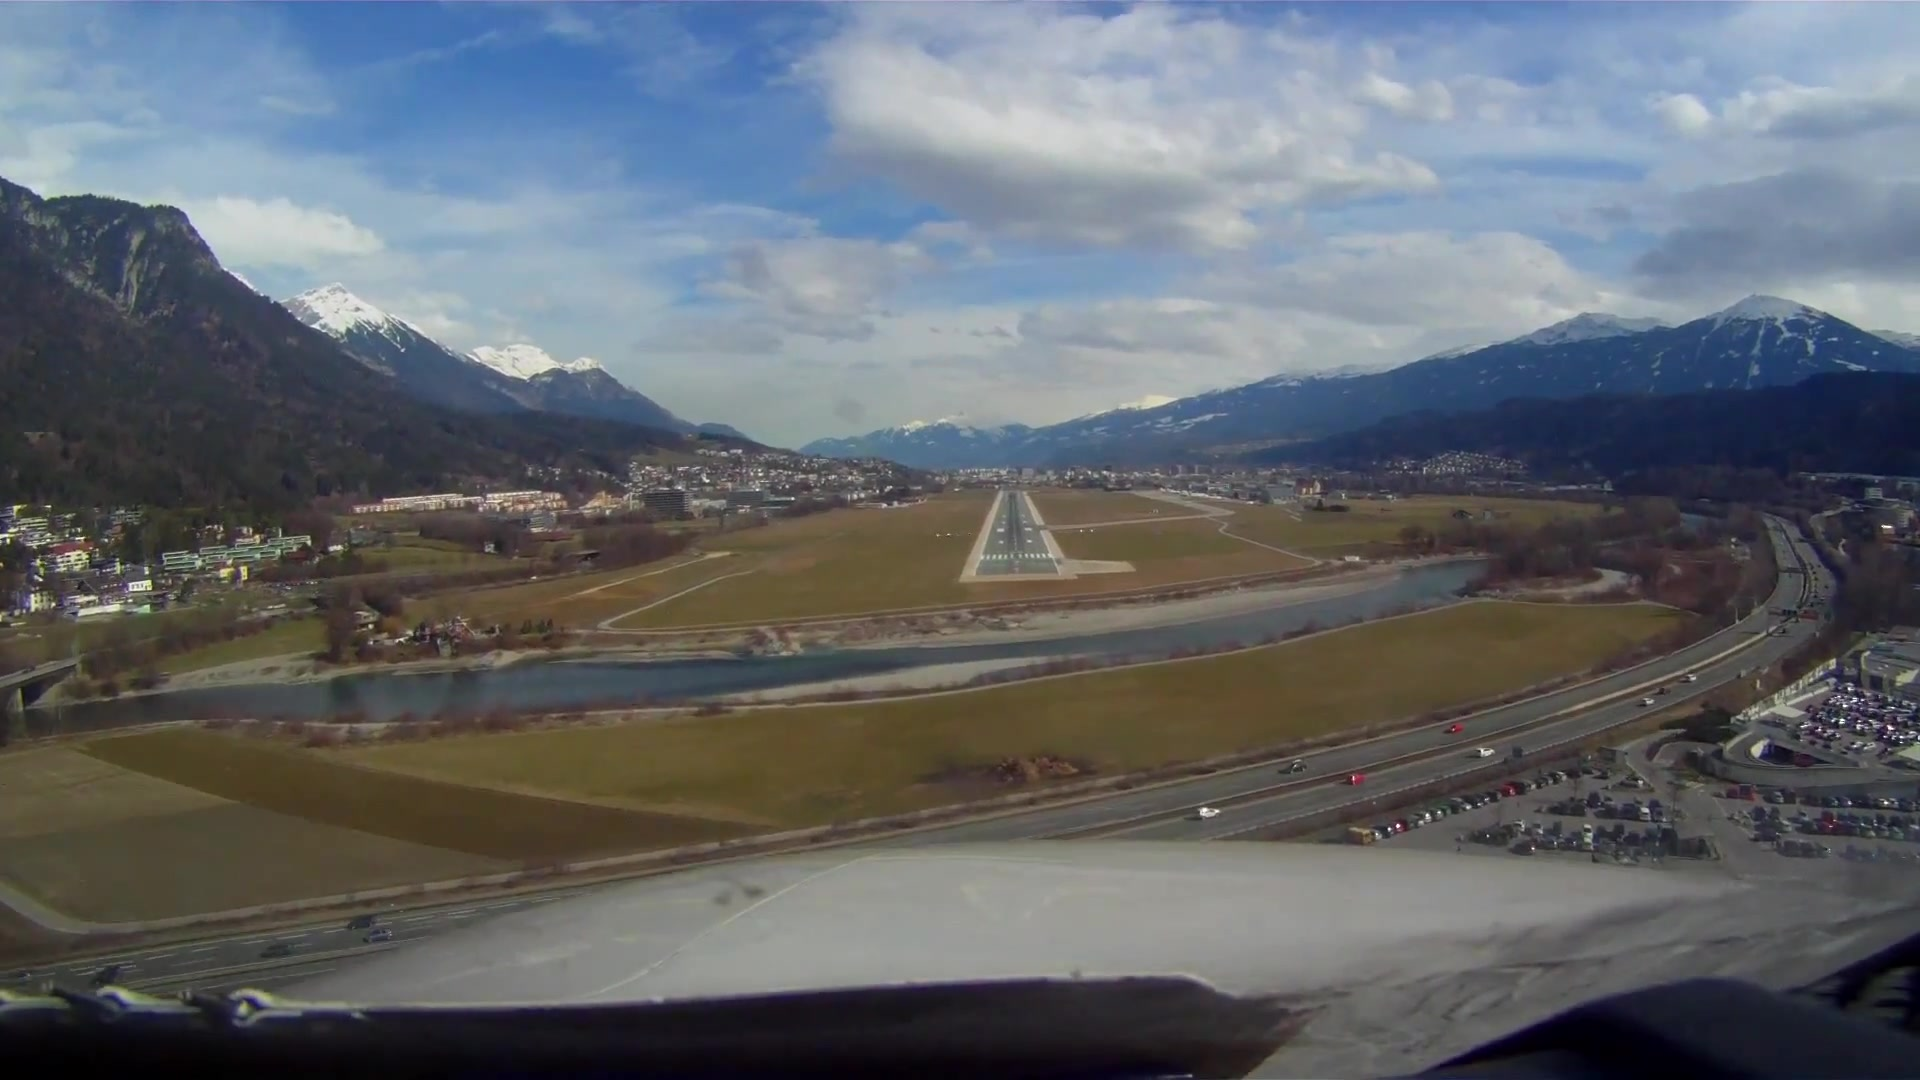entrance: (977, 551, 1054, 562)
runway: (971, 485, 1058, 579)
